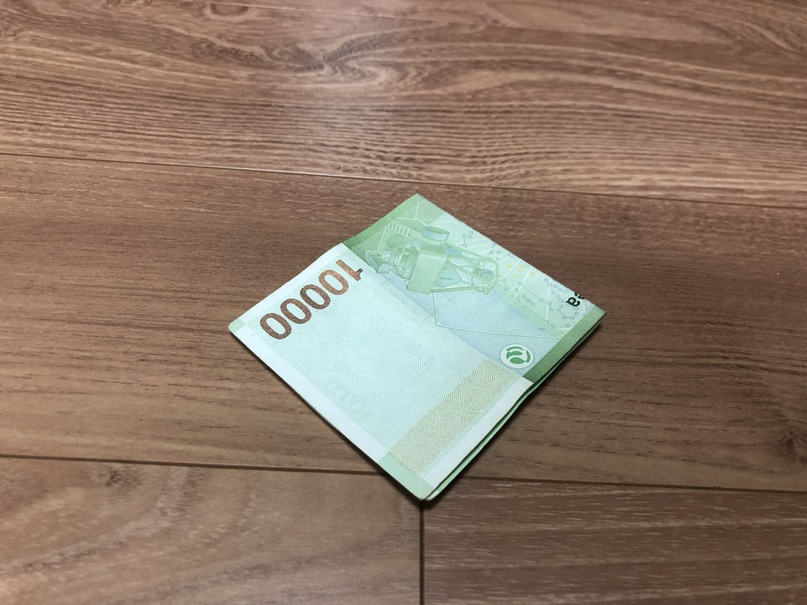10000won: (228, 192, 607, 499)
